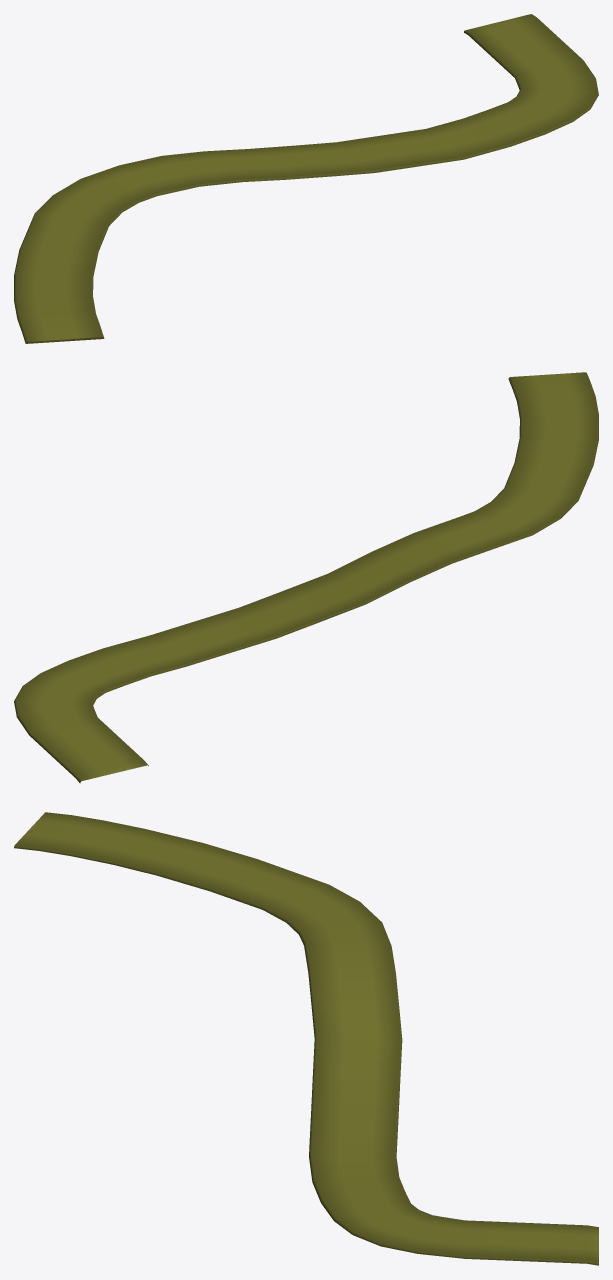
File: Footpath.fbx
3 renders of one model, top to bottom at view 1: azimuth 30°, elevation 25°; view 2: azimuth 210°, elevation 25°; view 3: azimuth 270°, elevation 25°, orthographic. The views are drawn at different scales.
Visible parts, largest first — view 1: pCube1; view 2: pCube1; view 3: pCube1.
Part boxes in pixels (x1,y1,x2,y2): pCube1: (14,14,598,343); pCube1: (14,372,598,783); pCube1: (14,812,598,1265).
Bounding box in the file's own units: 59.36 × 3.3 × 36.03.
